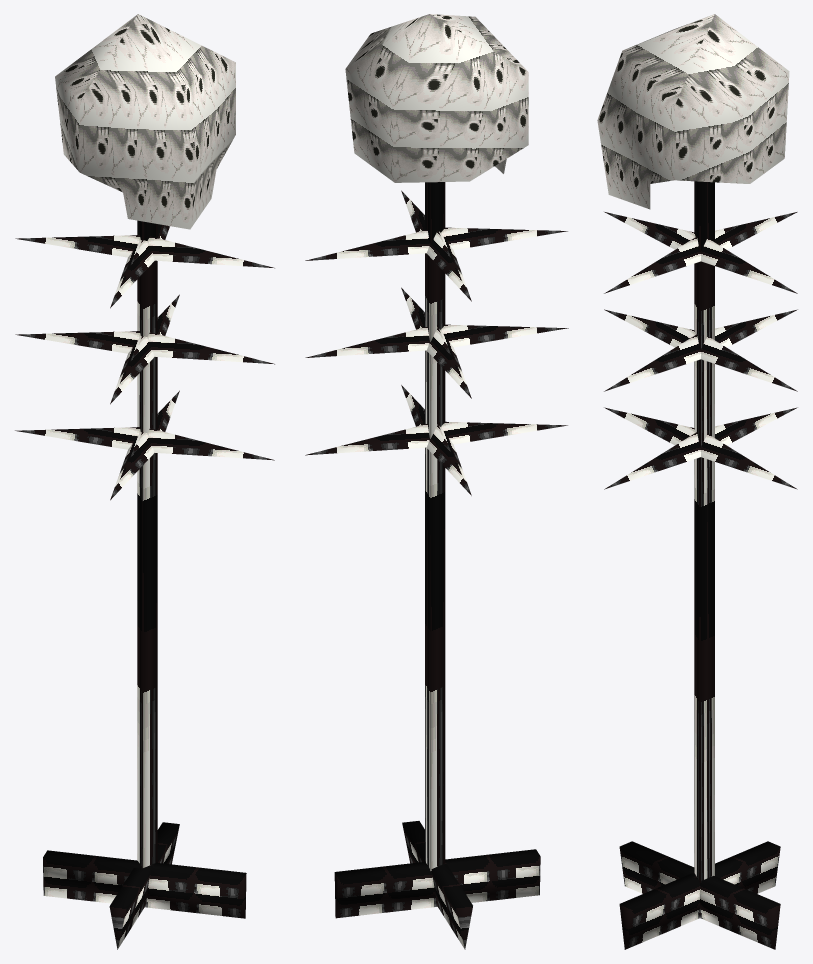
The model's file is 3168IMFY04_10.gltf.
The picture shows the model from 3 angles, left to right: view 1: azimuth 30°, elevation 25°; view 2: azimuth 150°, elevation 25°; view 3: azimuth 270°, elevation 25°; orthographic projection.
Parts seen in each view (by area): view 1: 3168IMFY04_10; view 2: 3168IMFY04_10; view 3: 3168IMFY04_10.
Boxes of the visible parts, left/top/right/bottom form: 3168IMFY04_10: left=15, top=14, right=274, bottom=949; 3168IMFY04_10: left=305, top=14, right=568, bottom=949; 3168IMFY04_10: left=597, top=14, right=797, bottom=949.
Size of the model in its own units: 0.3618 by 1.85 by 0.3728.
2 materials, 2 textured.
